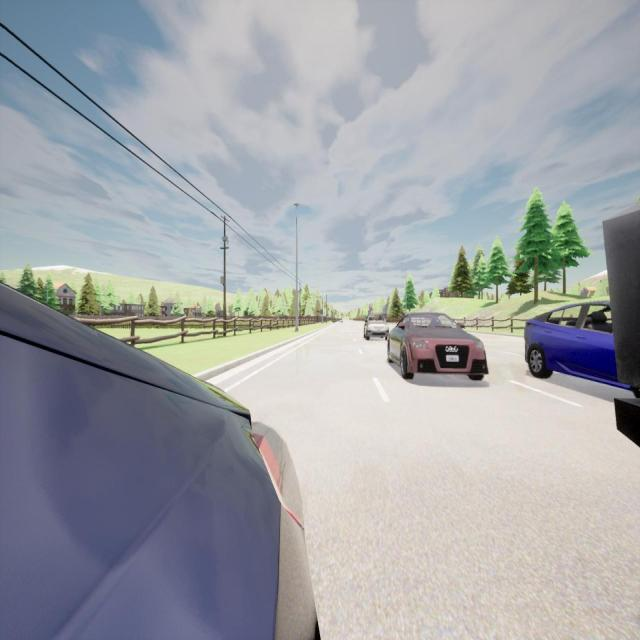Vehicle: (2, 278, 316, 640), (599, 198, 640, 451), (523, 298, 631, 387), (386, 310, 488, 385), (363, 312, 389, 343)
